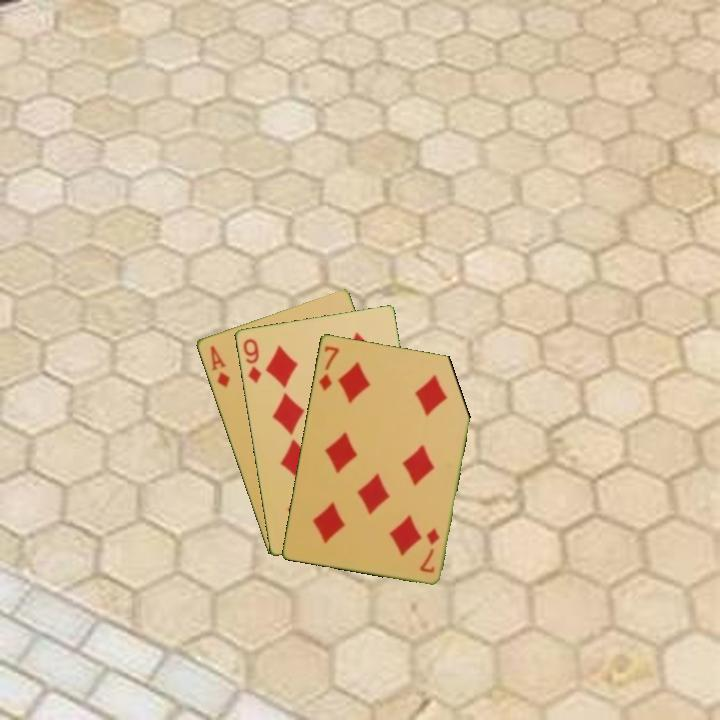7d: (315, 342, 342, 393), (416, 524, 442, 576)
9d: (239, 335, 264, 386)
Ad: (206, 342, 233, 390)
